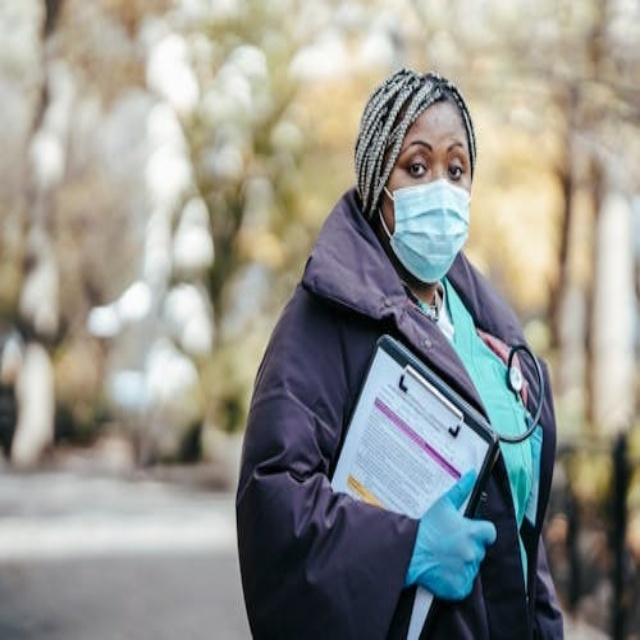Guantes: (407, 471, 498, 601)
Mascara: (382, 178, 471, 281)
Sin_gafas: (398, 133, 470, 179)
